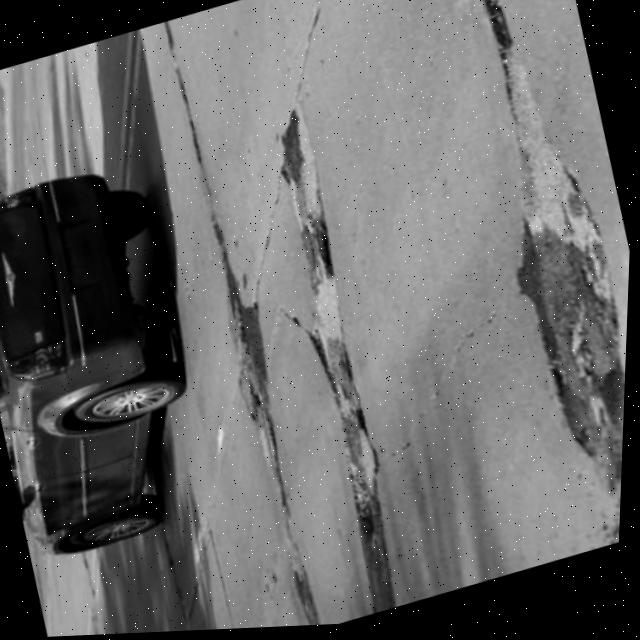Pothole: (470, 160, 635, 512), (221, 292, 293, 410), (460, 0, 534, 74), (427, 0, 513, 11)
